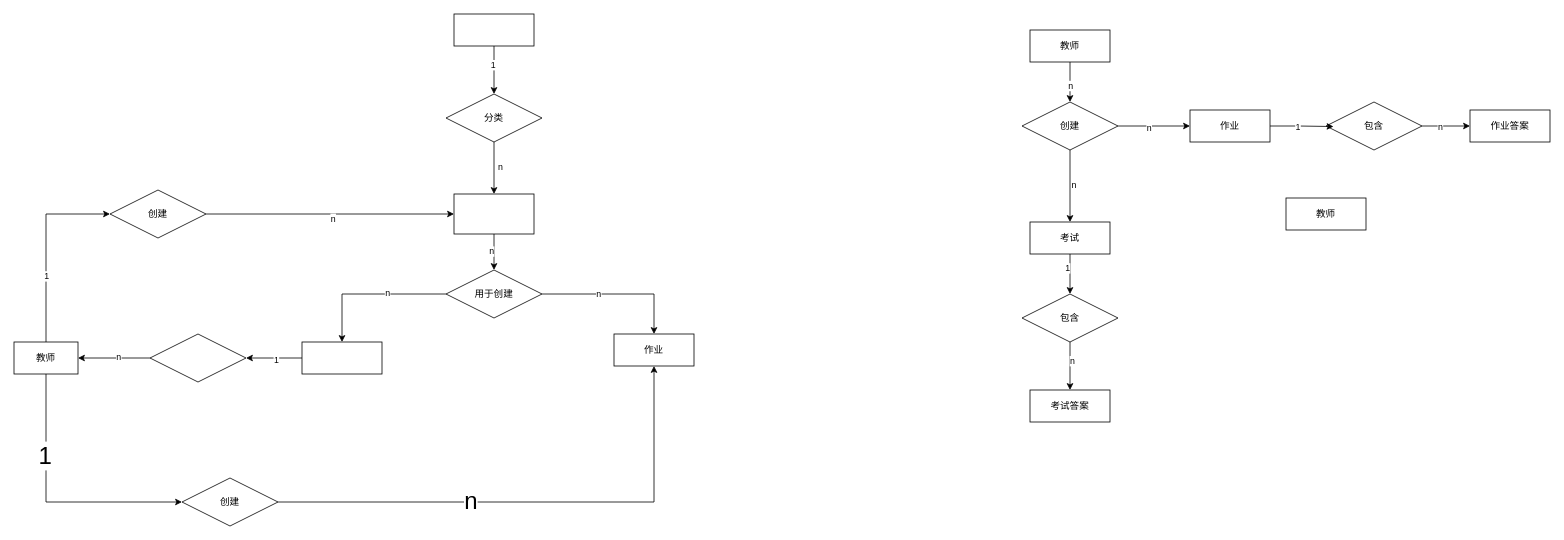
Some shapes in this 1564 by 540 pixel diagram are drawn without their labels. Each missing label, with the centre of its shape:
"被创建" belongs at point (197, 357).
"试卷" belongs at point (341, 357).
"题库" belongs at point (493, 213).
"题目类型" belongs at point (493, 29).
